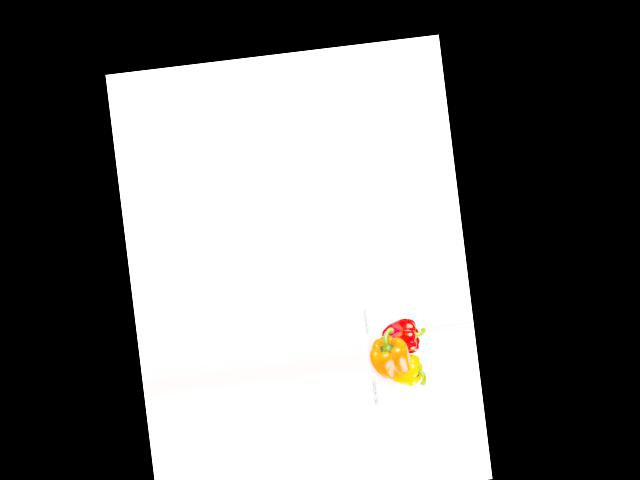bell_pepper: (388, 351, 429, 390)
